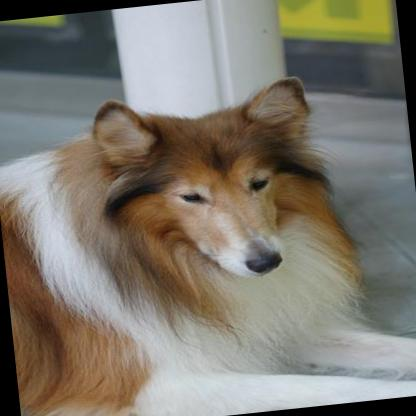collie: (0, 50, 416, 416)
